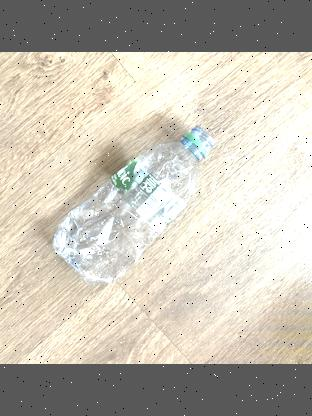Plastic Bottle: (51, 124, 215, 286)
